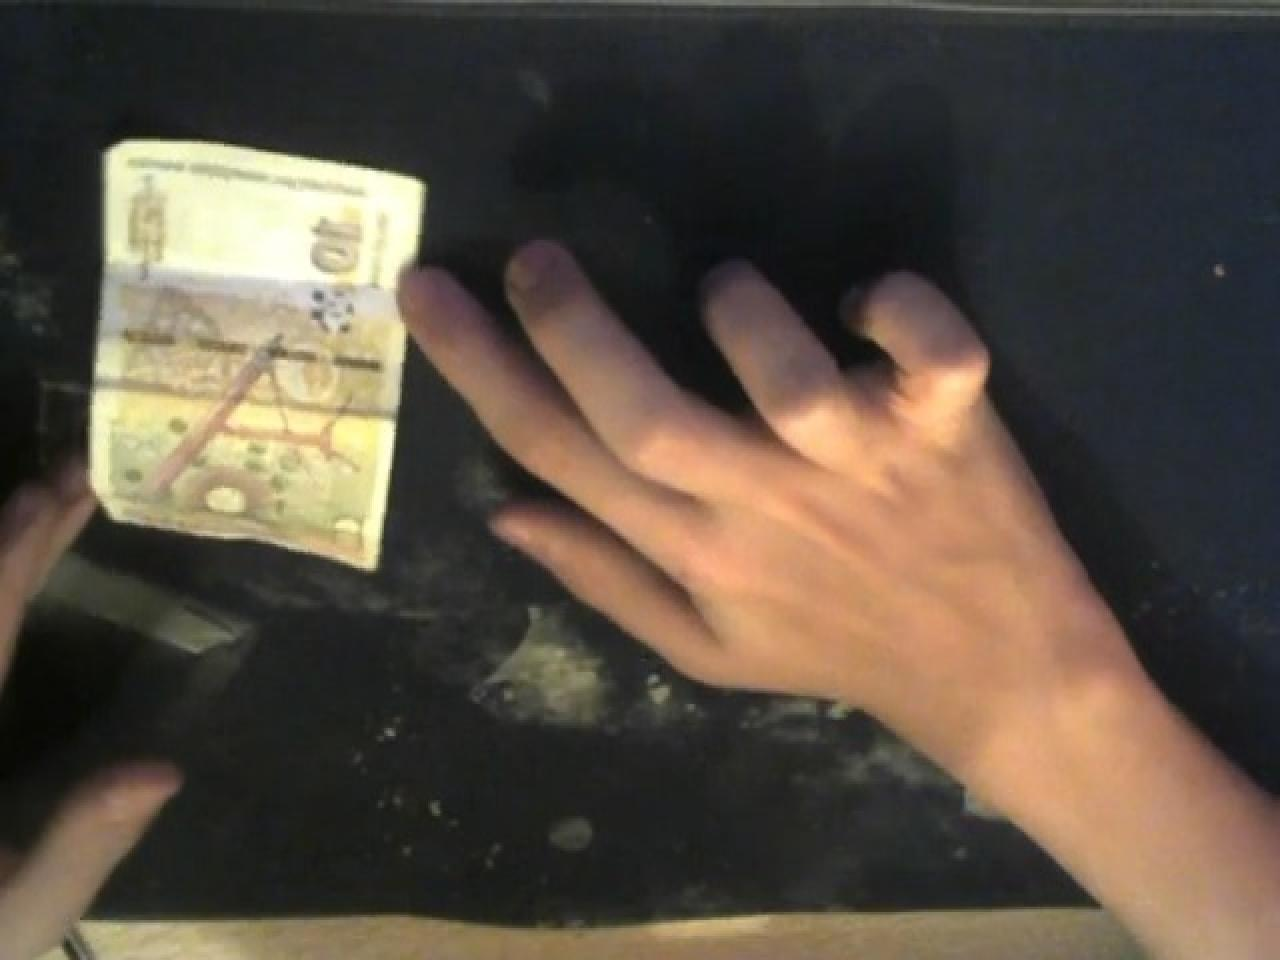10leva: (86, 131, 426, 571)
